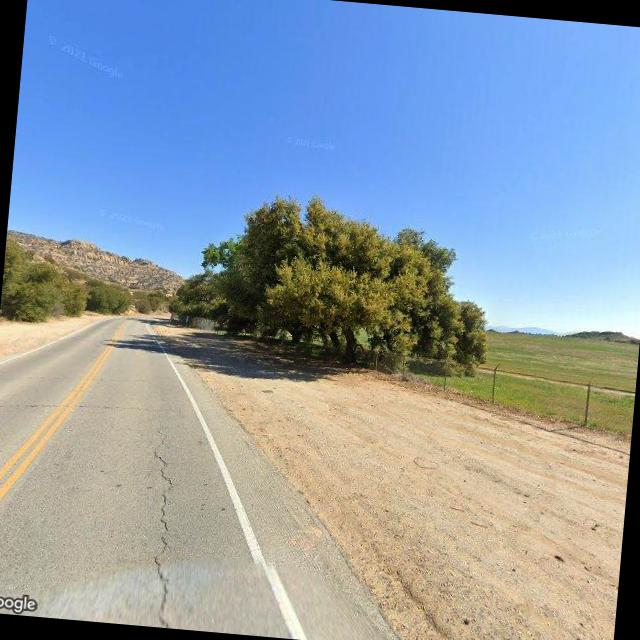crack: (132, 416, 187, 627)
